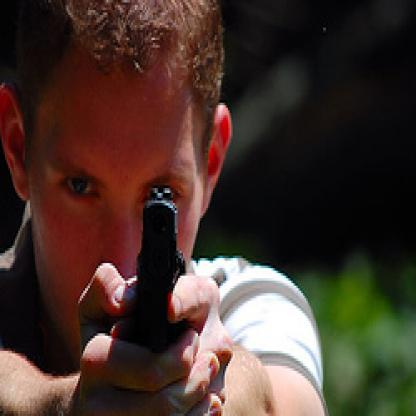gun: (125, 183, 203, 398)
